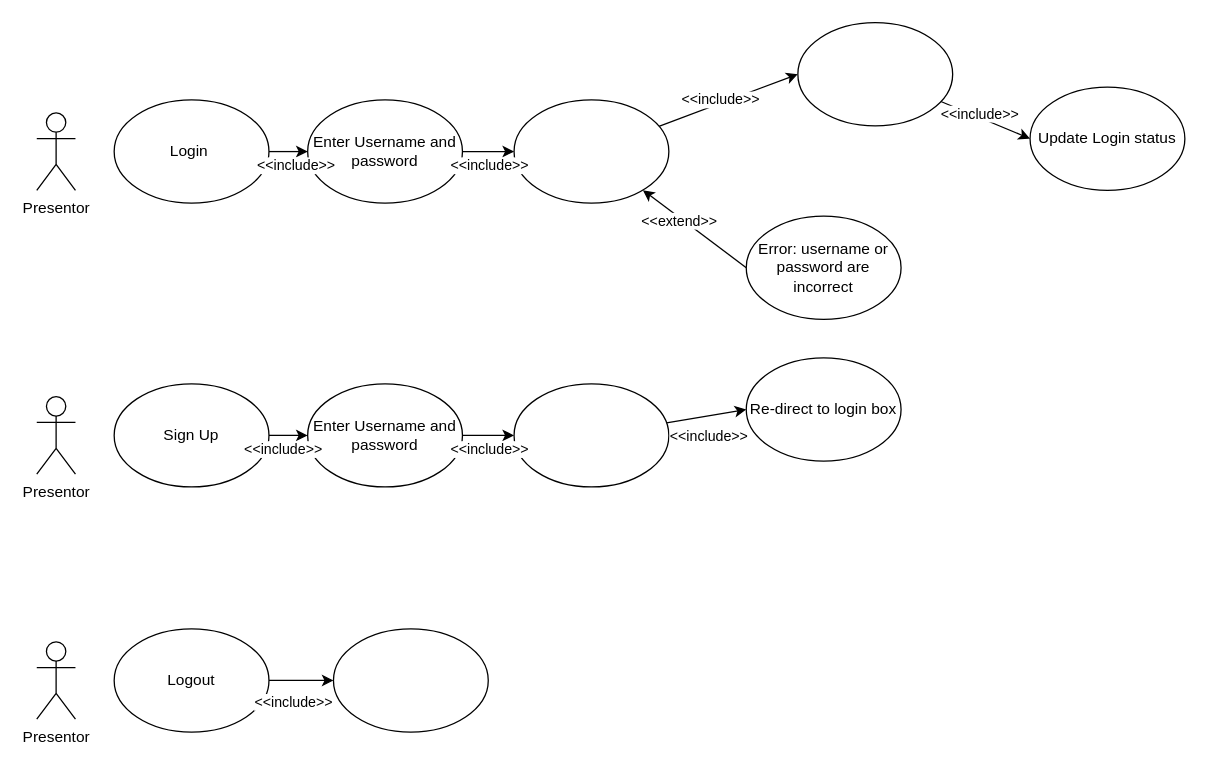
This 1207x769 diagram has some shape labels left out. The shapes that lost their labels are listed below. From the top down, each one's centre as x and y in pixels, then its label:
At [875,73]: "Hash values match".
At [591,151]: "Read JSON file and hash username and password".
At [591,434]: "Hash username and password and add them to JSON file".
At [410,680]: "Reset login status to defult".
